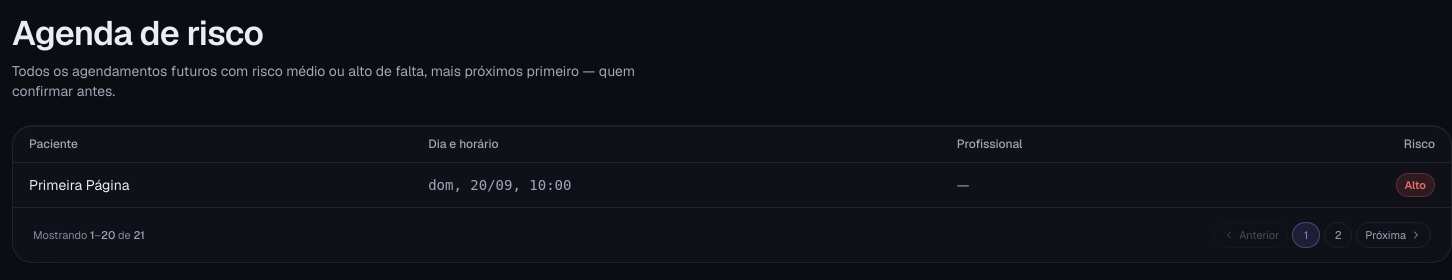
Test case: AgendaRiscoPage › pagina a lista completa ao clicar em 'Próxima'
Expected: the text "Primeira Página" is shown, [13,162,412,206]
What coordinates should you click on to do the following:
click the button with aria-label "Próxima página"
I would click on:
 (1394, 234)
Its box is [1356,222,1431,248].
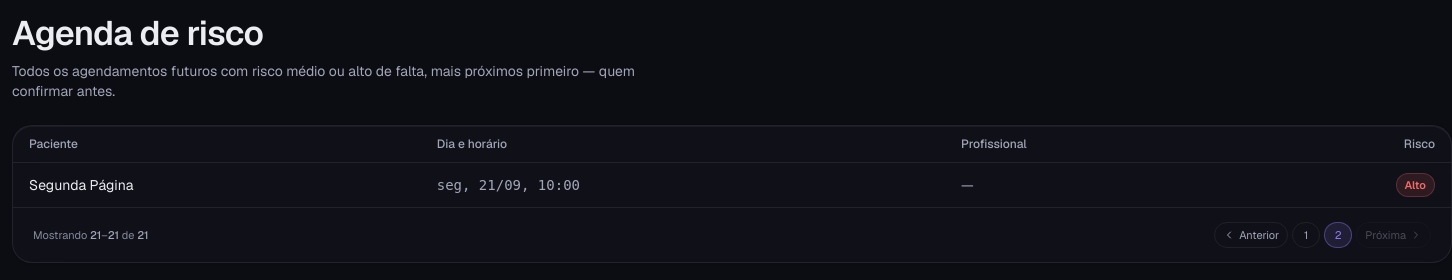
Expected: the text "Segunda Página" is shown, [13,162,421,206]
